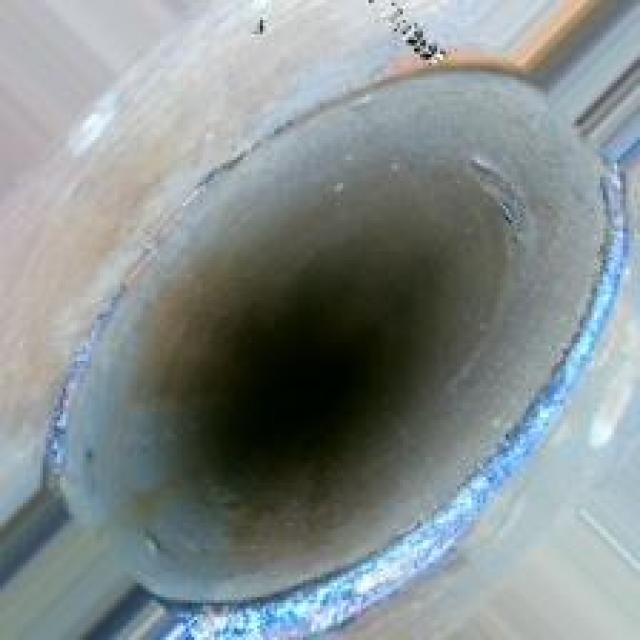joint: (65, 49, 626, 628)
